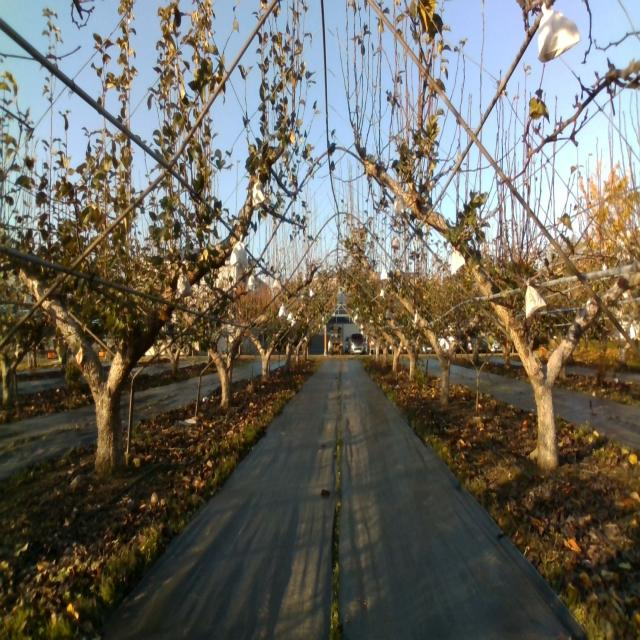pearbags: (536, 2, 582, 62), (524, 275, 546, 319), (230, 233, 249, 269), (174, 266, 194, 298), (449, 245, 466, 278), (252, 176, 266, 210), (392, 192, 409, 218)
